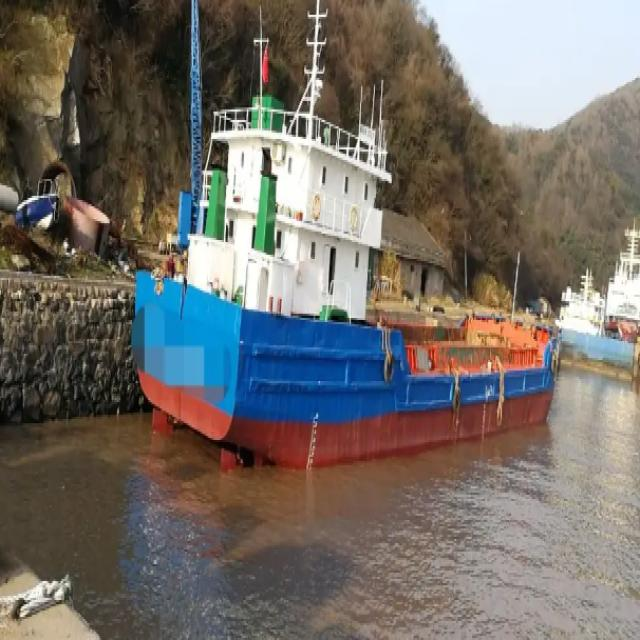fishing boat: (132, 2, 563, 483)
